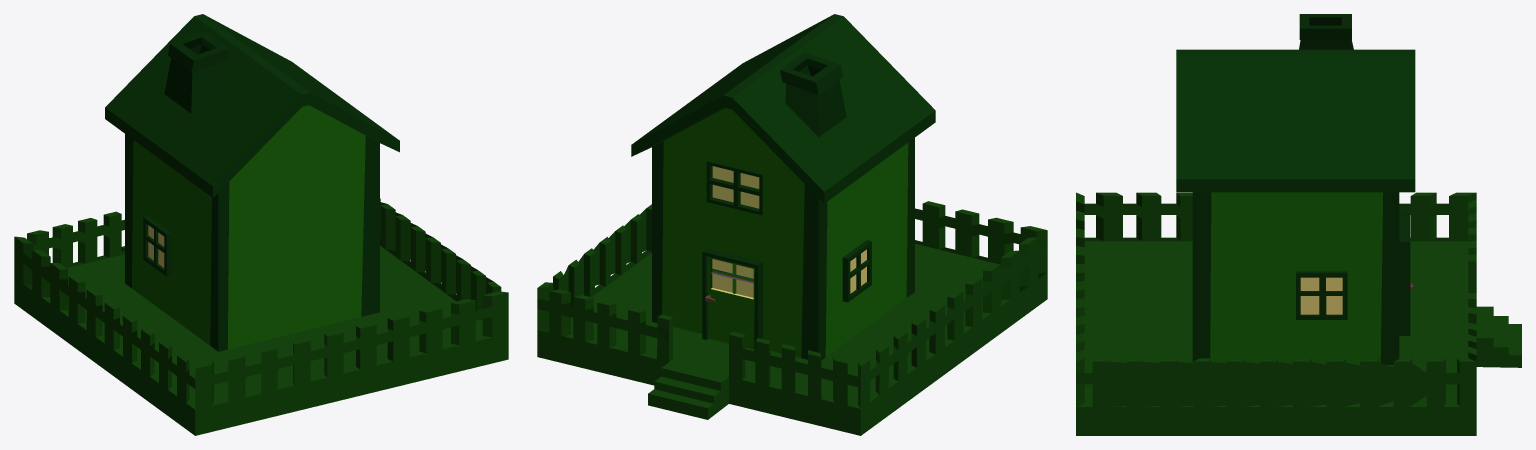
File: yeşil ev.fbx
The picture shows the model from 3 angles, left to right: view 1: azimuth 30°, elevation 25°; view 2: azimuth 150°, elevation 25°; view 3: azimuth 270°, elevation 25°; orthographic projection. The views are drawn at different scales.
Parts seen in each view (by area): view 1: Cube.001; view 2: Cube.001; view 3: Cube.001.
Part boxes in pixels (<box>): Cube.001: <box>14,14,508,435</box>; Cube.001: <box>537,14,1047,435</box>; Cube.001: <box>1076,14,1521,435</box>.
Size of the model in its own units: 1268 by 1088 by 1411.
